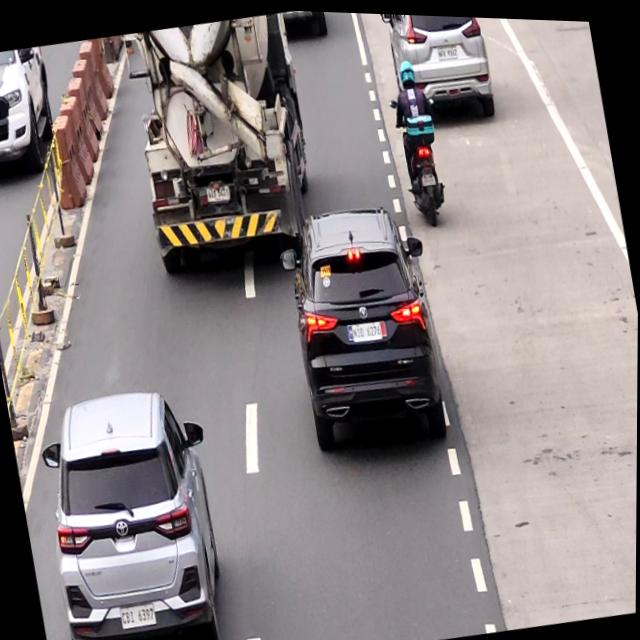Car: (36, 380, 231, 640), (277, 200, 445, 451), (384, 11, 496, 119)
License-Plate: (119, 602, 159, 632), (352, 315, 383, 342), (203, 179, 232, 201), (437, 40, 461, 60)
Motorcycle: (390, 53, 448, 221)
Truck: (121, 7, 317, 277)
